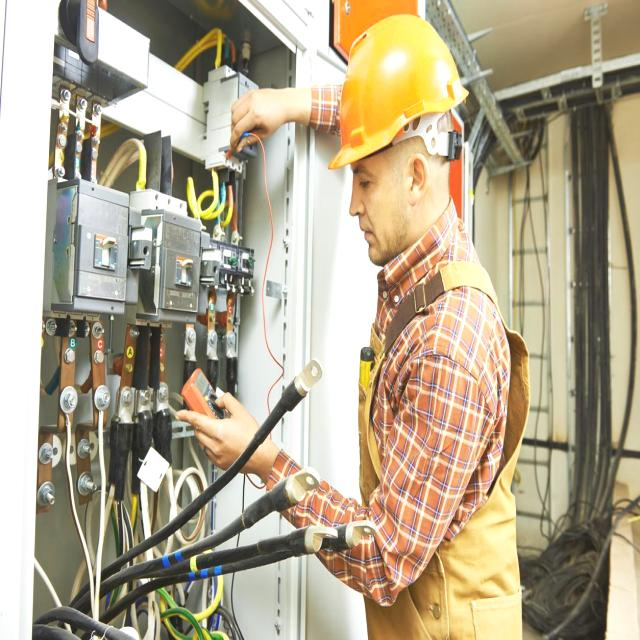face_nomask: (337, 138, 425, 263)
hand_noglove: (181, 377, 279, 486), (219, 66, 312, 152)
head_helmet: (328, 17, 476, 167)
person: (288, 0, 523, 636)
